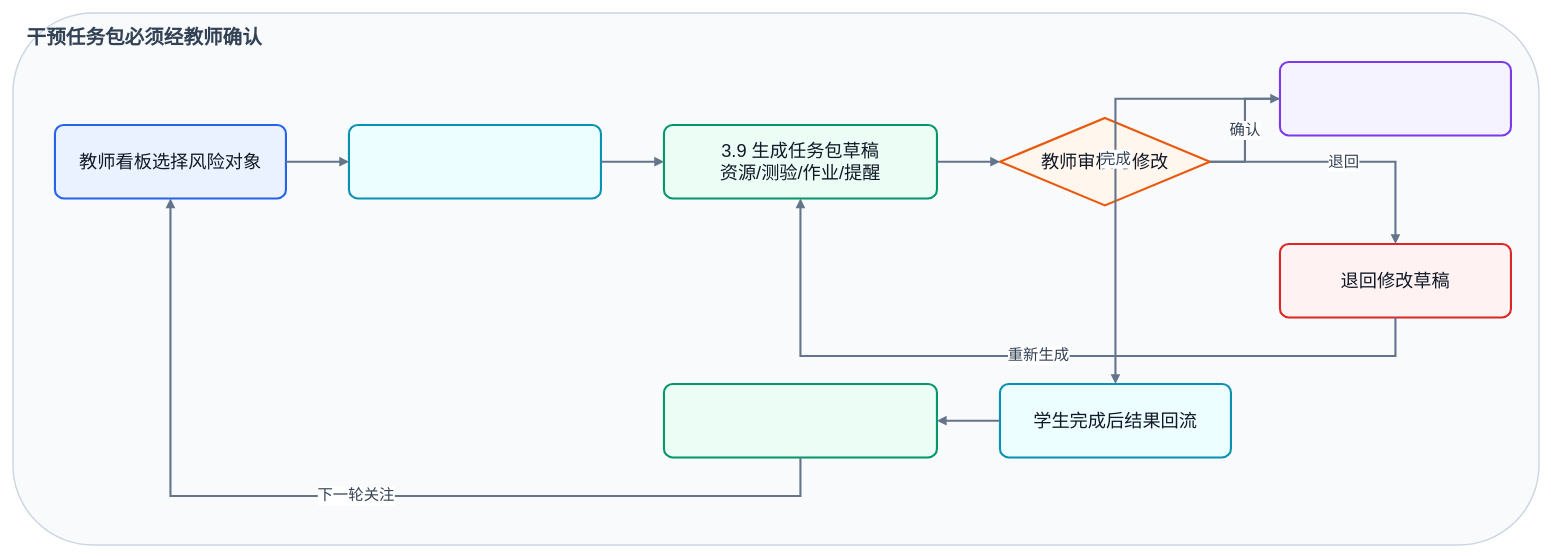
Some shapes in this 1551 by 557 pixel diagram are drawn without their labels. The centre of each missing label's shape, as x and y in pixels:
下发学生端线上任务: (x=1395, y=98)
更新画像/看板/干预状态: (x=800, y=420)
诊断智能体提供依据 问题/原因/建议动作: (x=475, y=161)
